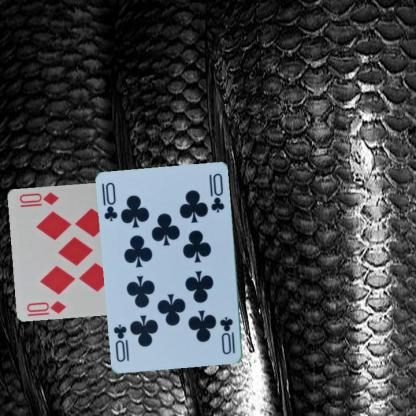10c: (217, 314, 237, 356), (102, 180, 119, 223)
10d: (24, 297, 67, 315)
